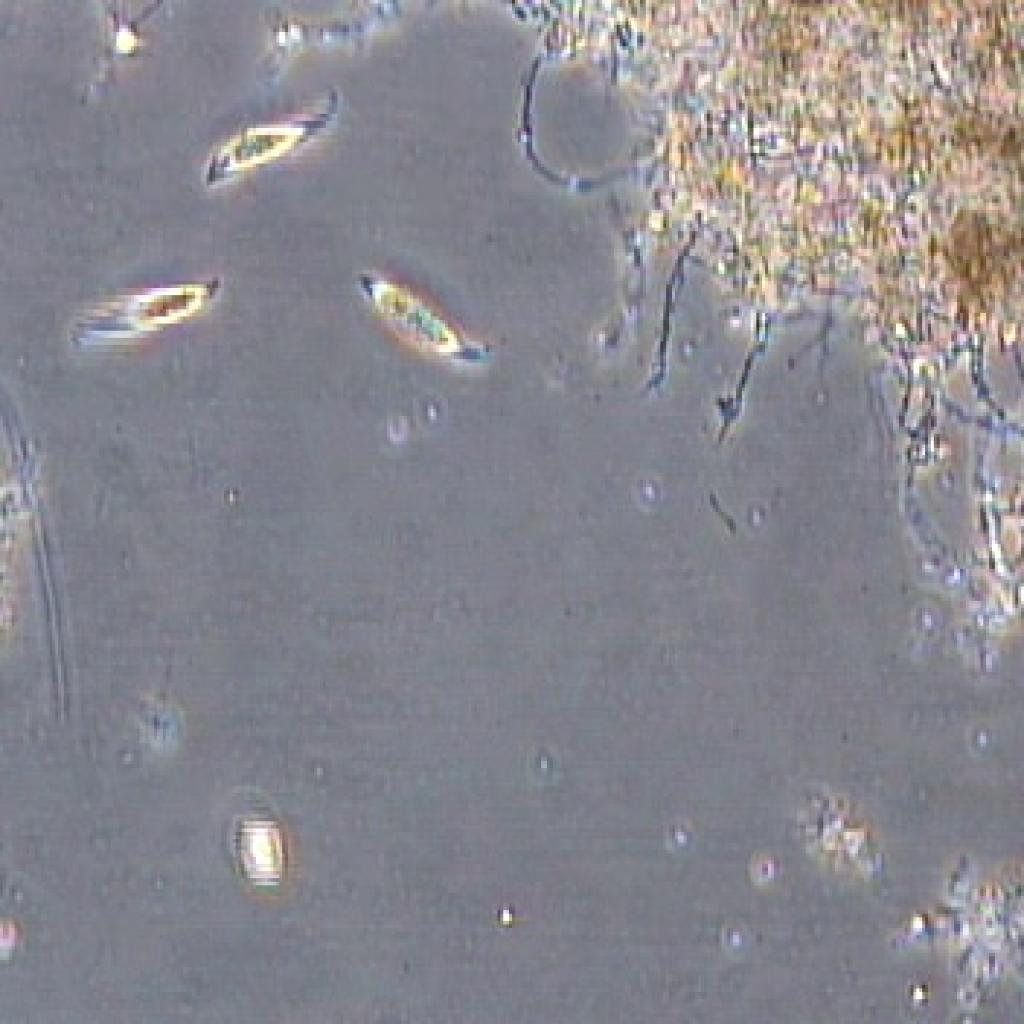Pristina: (174, 69, 358, 201), (334, 256, 500, 377), (61, 270, 233, 352)
